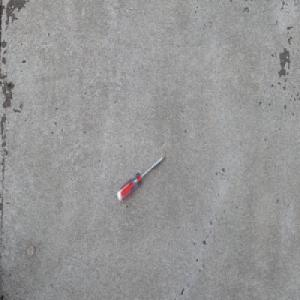Screwdriver: (116, 154, 166, 202)
